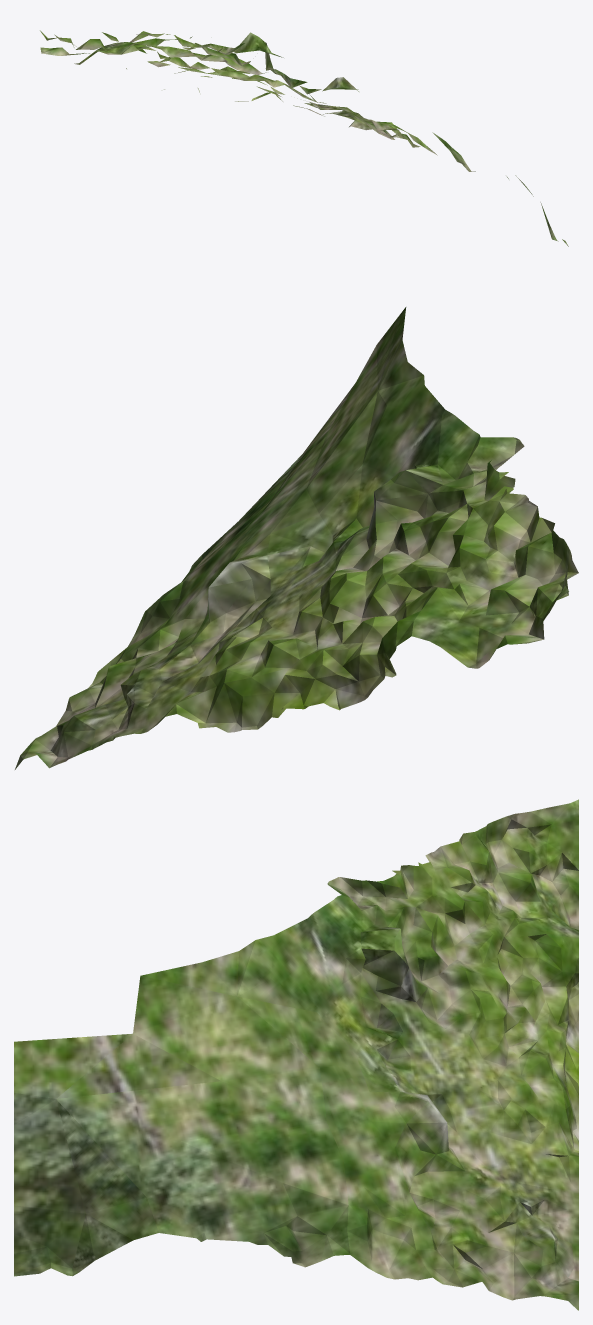
3 renders of one model, top to bottom at view 1: azimuth 30°, elevation 25°; view 2: azimuth 150°, elevation 25°; view 3: azimuth 270°, elevation 25°, orthographic. The views are drawn at different scales.
Size of the model in its own units: 25.85 by 14.02 by 26.11.
Materials: 2 (2 with a texture image).
